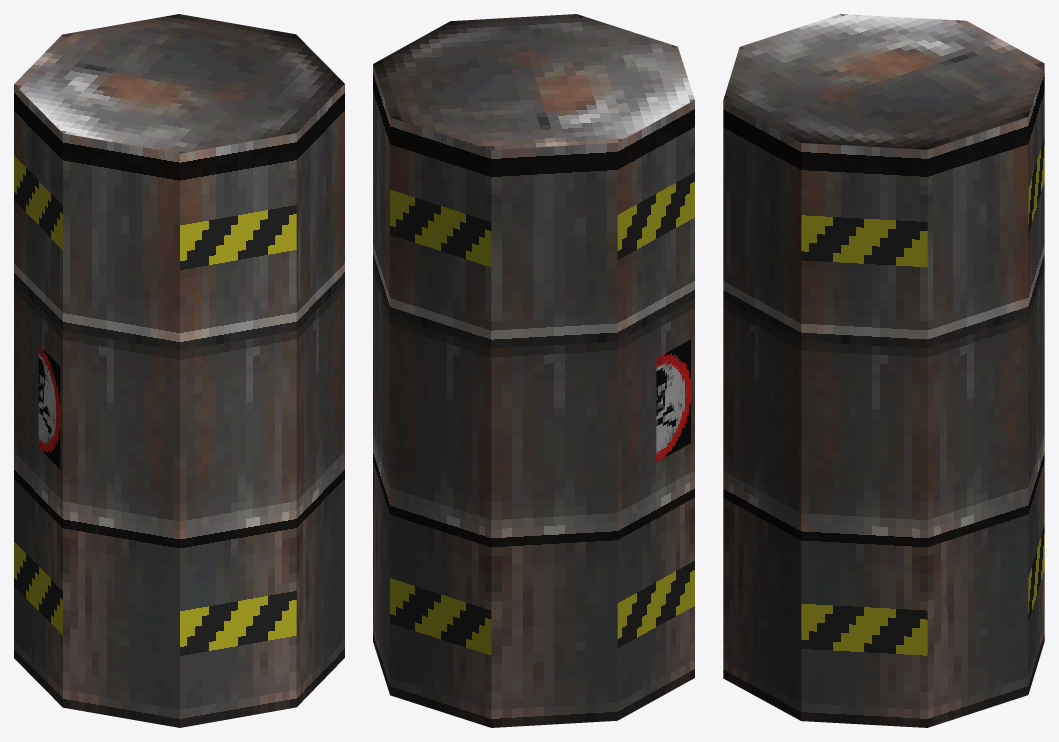
Rendered from primary_075.glb.
The picture shows the model from 3 angles, left to right: view 1: azimuth 30°, elevation 25°; view 2: azimuth 150°, elevation 25°; view 3: azimuth 270°, elevation 25°; orthographic projection.
Visible parts, largest first — view 1: Object; view 2: Object; view 3: Object.
Part boxes in pixels (<box>): Object: <box>14,14,344,727</box>; Object: <box>373,14,694,727</box>; Object: <box>723,14,1044,727</box>.
Size of the model in its own units: 0.7534 by 1.5 by 0.7534.
Materials: 9 (9 with a texture image).
